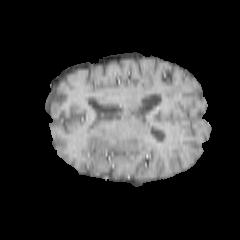glioma: (82, 129, 143, 168)
